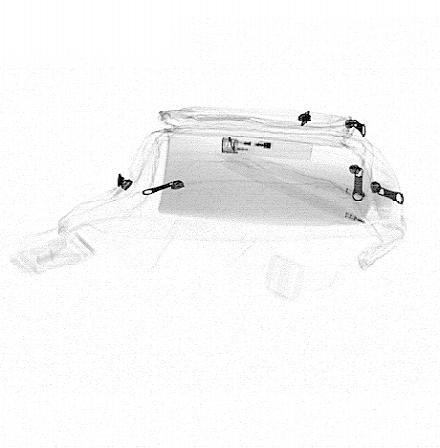Lighter: (220, 135, 315, 162)
